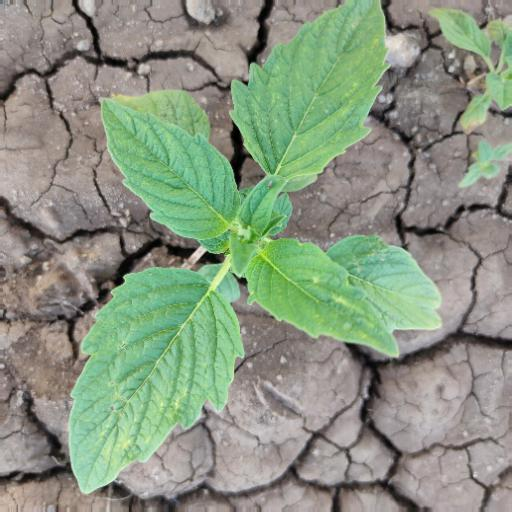crop: (47, 6, 453, 497)
